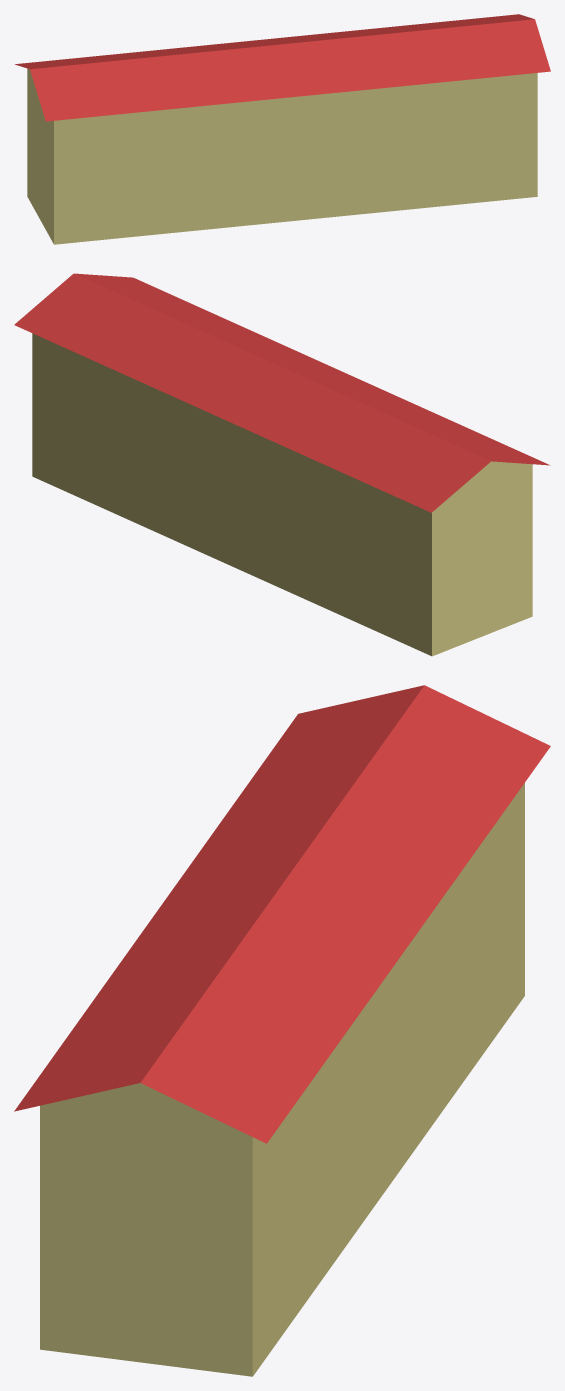
3 renders of one model, top to bottom at view 1: azimuth 30°, elevation 25°; view 2: azimuth 150°, elevation 25°; view 3: azimuth 270°, elevation 25°, orthographic. The views are drawn at different scales.
Visible parts, largest first — view 1: group_5, group_3, group_4; view 2: group_5, group_3, group_4; view 3: group_5, group_3, group_4.
Part boxes in pixels (bbox=[...]): group_5: bbox=[27, 68, 537, 244]; group_3: bbox=[15, 16, 550, 121]; group_4: bbox=[30, 14, 534, 119]; group_5: bbox=[32, 333, 532, 656]; group_3: bbox=[18, 273, 550, 512]; group_4: bbox=[14, 273, 498, 461]; group_5: bbox=[40, 783, 524, 1376]; group_3: bbox=[14, 685, 550, 1141]; group_4: bbox=[119, 685, 435, 1143].
Bounding box in the file's own units: 48.62 × 25.66 × 15.22.
